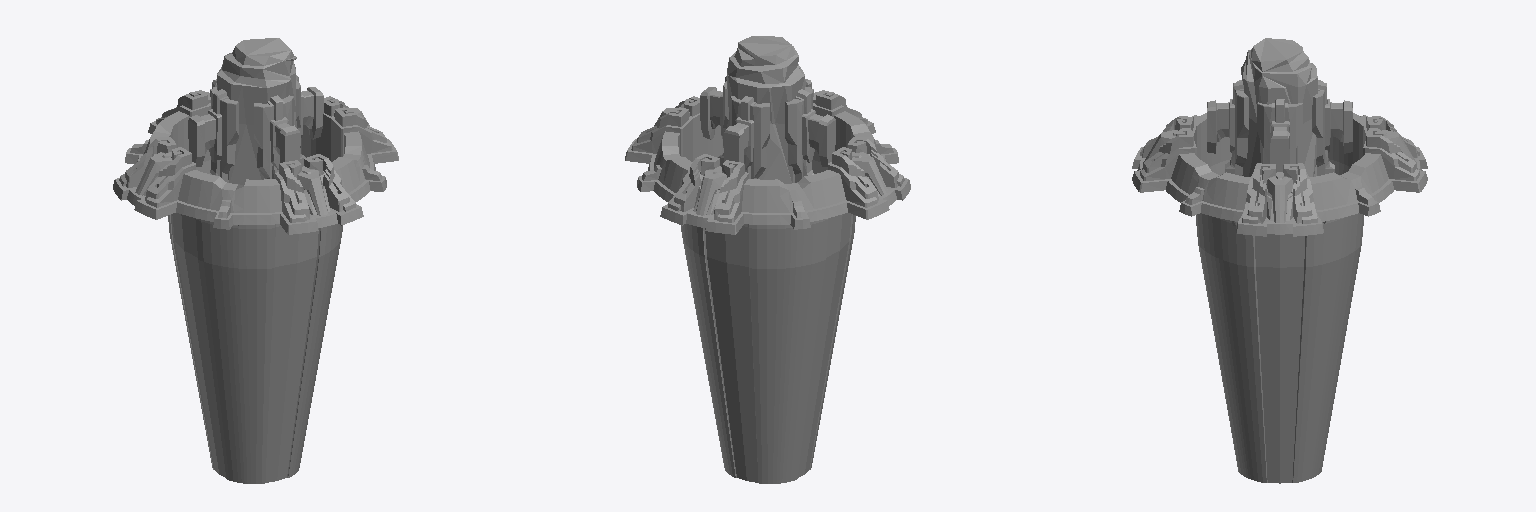
File: order_nexus.obj
3 renders of one model, left to right at view 1: azimuth 30°, elevation 25°; view 2: azimuth 150°, elevation 25°; view 3: azimuth 270°, elevation 25°, orthographic.
Parts seen in each view (by area): view 1: lolMesh_sruap_ordernexus; view 2: lolMesh_sruap_ordernexus; view 3: lolMesh_sruap_ordernexus.
Boxes of the visible parts, box(x1,y1,x2,y2) form: lolMesh_sruap_ordernexus: box(113, 38, 398, 483); lolMesh_sruap_ordernexus: box(625, 36, 910, 483); lolMesh_sruap_ordernexus: box(1132, 38, 1427, 483).
Bounding box in the file's own units: 7.49 × 11.7 × 7.49.